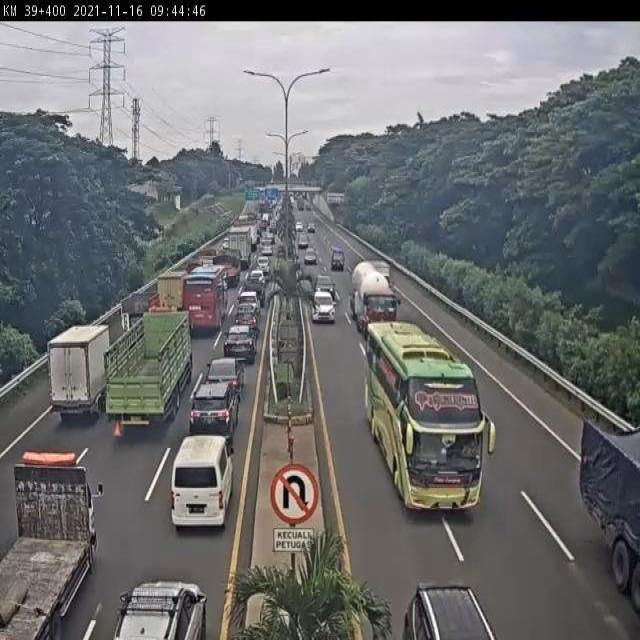Bus: (363, 321, 489, 509), (183, 266, 227, 331)
Car: (579, 419, 640, 624), (111, 577, 209, 640), (402, 582, 500, 638), (188, 359, 244, 442), (223, 323, 258, 362), (311, 290, 336, 324), (236, 293, 260, 322), (313, 274, 336, 294), (331, 246, 345, 270), (256, 256, 271, 274), (304, 250, 318, 266), (261, 243, 274, 256), (298, 234, 309, 249), (307, 222, 316, 233), (295, 222, 303, 232)
Truck: (0, 451, 105, 640), (103, 312, 190, 426), (46, 319, 111, 419), (350, 261, 399, 329)
Van: (170, 434, 233, 532)
